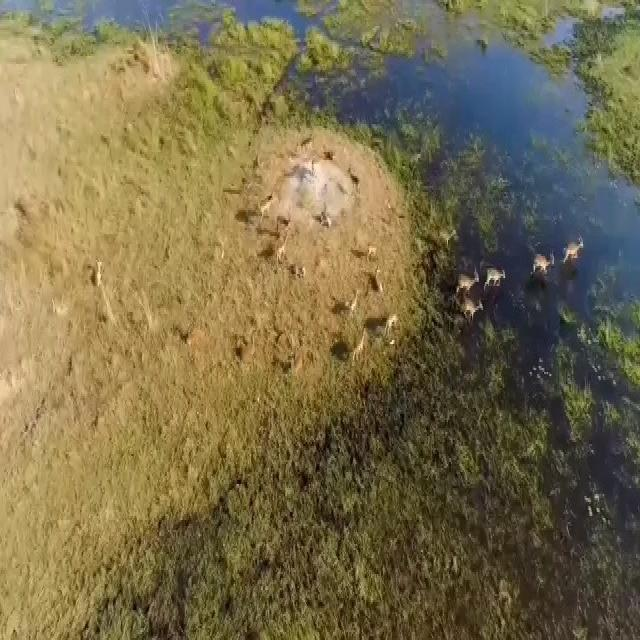Deer: (561, 241, 589, 271), (350, 325, 370, 366), (178, 322, 203, 353), (466, 296, 488, 321), (534, 249, 554, 276), (259, 193, 277, 221), (485, 265, 506, 288), (458, 272, 478, 293), (348, 287, 362, 317), (277, 239, 292, 265), (295, 346, 307, 376), (376, 260, 384, 301), (322, 209, 331, 239), (235, 339, 249, 358), (93, 270, 106, 290), (387, 310, 399, 331), (367, 242, 379, 260), (350, 173, 359, 196)
